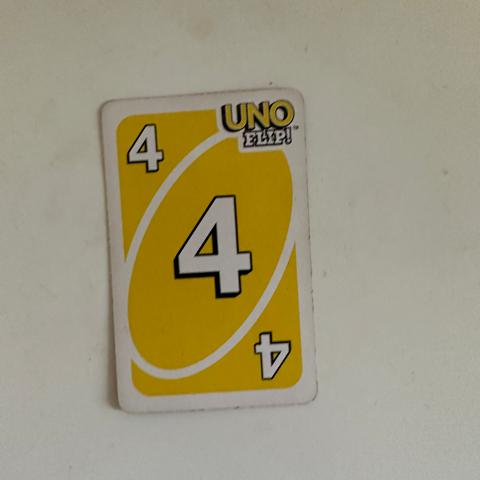9_red: (167, 190, 262, 304), (119, 115, 169, 179), (249, 324, 300, 383)
